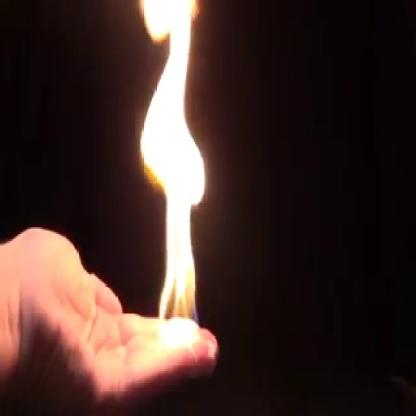fire: (127, 0, 210, 344)
